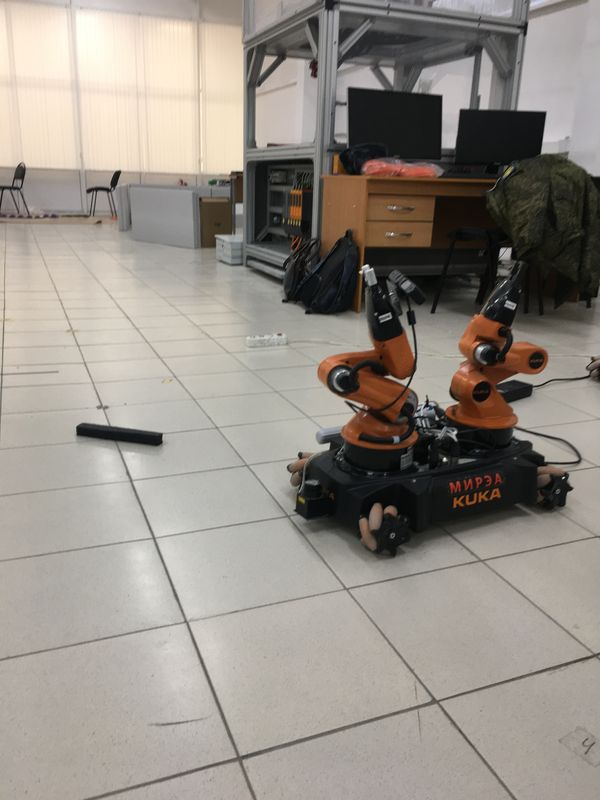socket: (243, 328, 291, 350)
